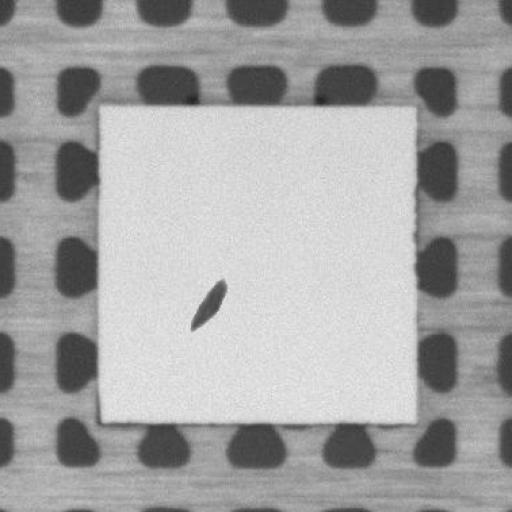DIE_INK: (184, 271, 231, 337)
